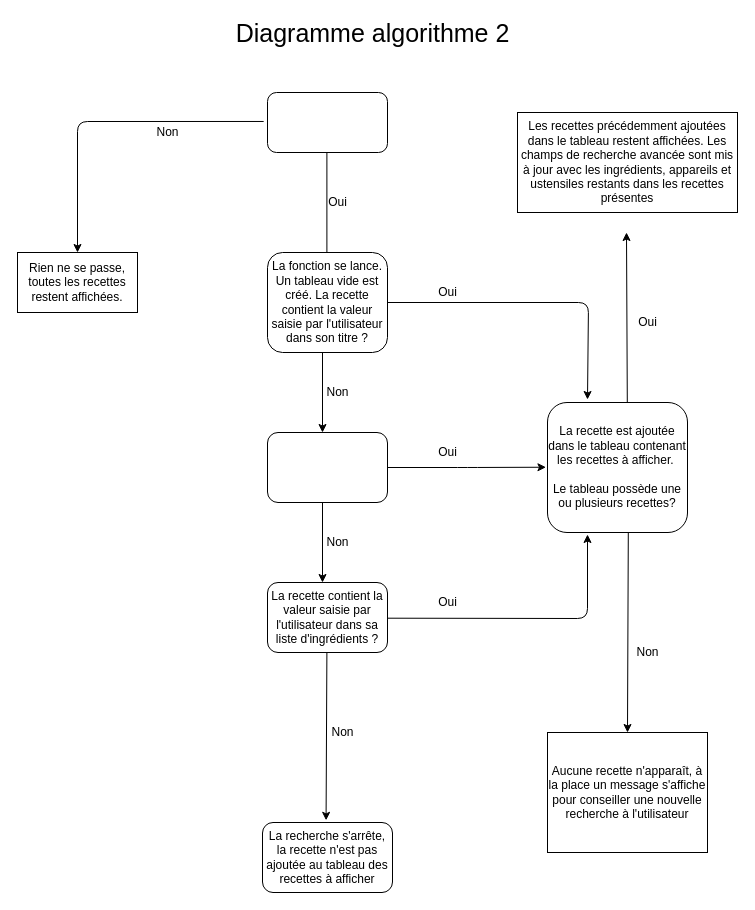
This 755x910 diagram has some shape labels left out. The centre of each missing label's shape, as x and y in pixels:
"L'utilisateur a saisi 3 caractères ou plus" goes at [327,122].
"La recette contient la valeur saisie par l'utilisateur dans sa description ?" goes at [327,467].
